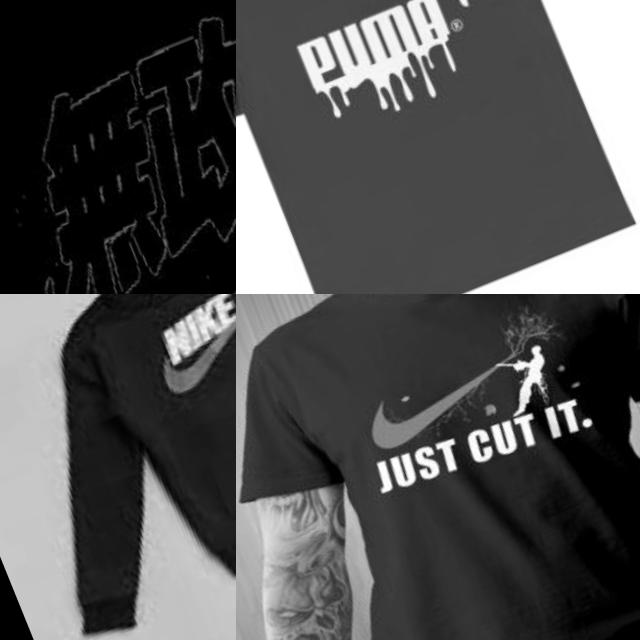NIKE_fake: (297, 294, 624, 536), (0, 0, 236, 294)
NIKE_original: (95, 294, 236, 411)
PUMA_fake: (270, 0, 523, 141)
